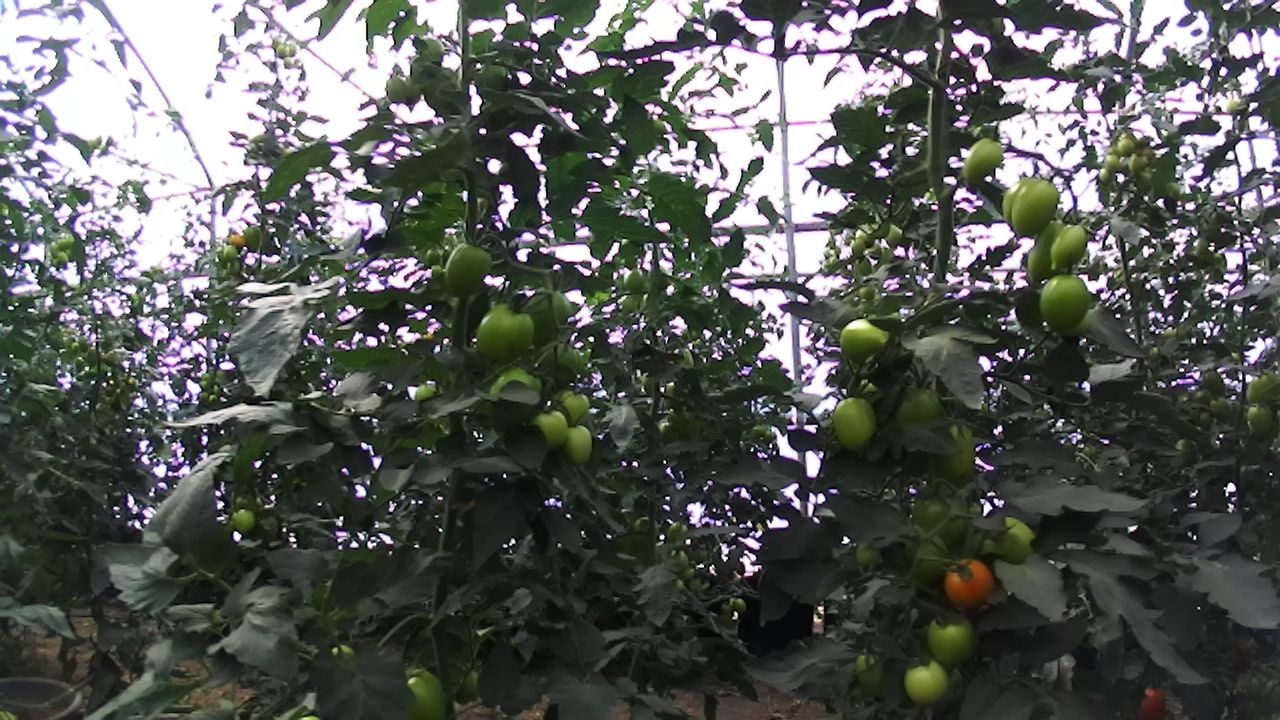tomato: (477, 356, 549, 440), (468, 297, 541, 371), (906, 486, 981, 558), (926, 413, 988, 497), (511, 281, 580, 354), (388, 655, 465, 720), (917, 603, 987, 671), (1032, 268, 1099, 339), (1005, 169, 1065, 245), (826, 388, 889, 459), (884, 376, 955, 439), (952, 125, 1015, 196), (436, 236, 505, 300), (829, 308, 899, 371), (1019, 211, 1075, 288), (977, 509, 1047, 570), (936, 552, 1003, 614), (527, 335, 588, 397), (897, 651, 959, 710), (520, 401, 580, 458), (1042, 214, 1095, 278), (546, 378, 595, 432), (556, 419, 605, 472), (1127, 678, 1177, 720), (849, 647, 890, 698), (222, 500, 265, 541), (1242, 365, 1280, 410), (412, 31, 452, 70), (1244, 398, 1280, 441), (1194, 365, 1232, 403), (850, 535, 887, 572), (1170, 433, 1206, 471), (617, 264, 653, 300), (382, 73, 412, 108), (239, 221, 268, 256), (419, 242, 448, 275), (663, 516, 692, 549), (881, 221, 907, 252), (851, 224, 879, 252), (667, 546, 693, 576), (850, 253, 876, 279), (1114, 133, 1139, 159), (224, 229, 249, 254), (1125, 149, 1150, 174), (1100, 149, 1123, 176), (1096, 161, 1119, 187), (855, 281, 879, 305), (223, 254, 245, 278), (847, 235, 869, 259), (219, 241, 241, 264), (53, 234, 76, 254), (729, 595, 750, 616), (272, 41, 294, 61), (53, 248, 73, 268), (280, 52, 297, 72), (285, 42, 302, 59)
